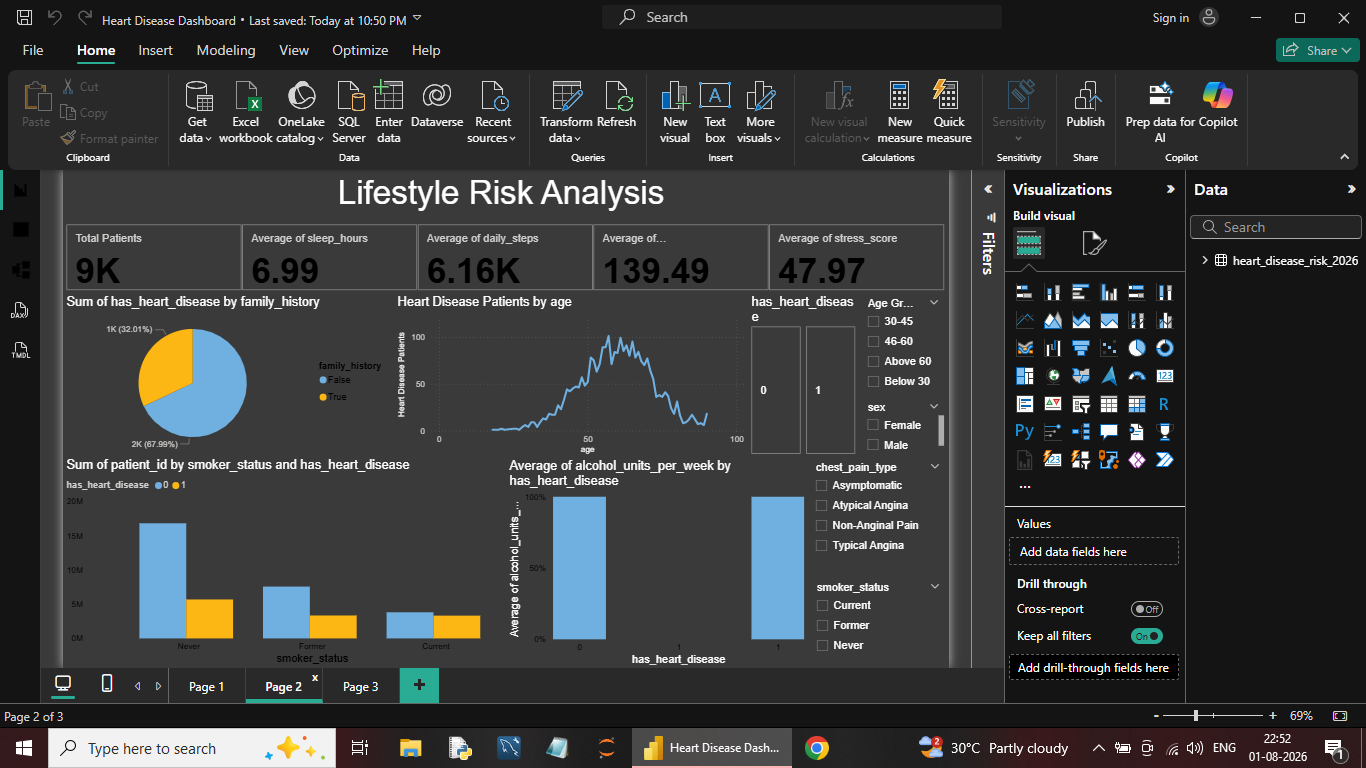

Layout of this report page (visuals, bound fields, positions):
{"tool":"powerbi","page":{"name":"Page 2","canvas":[1280,720],"ordinal":1},"visuals":[{"type":"textbox","box":[0,0,1280,72.9],"z":0},{"type":"clusteredColumnChart","fields":{"Category":["heart_disease_risk_2026.smoker_status"],"Y":["Sum(heart_disease_risk_2026.patient_id)"],"Series":["heart_disease_risk_2026.has_heart_disease"]},"box":[0,415.7,687.3,304.6],"z":1000},{"type":"pieChart","fields":{"Category":["heart_disease_risk_2026.family_history"],"Y":["Sum(heart_disease_risk_2026.has_heart_disease)"]},"box":[0,179.3,479,236.6],"z":2000},{"type":"cardVisual","fields":{"Data":["heart_disease_risk_2026.Total Patients","Avg(heart_disease_risk_2026.sleep_hours)","Avg(heart_disease_risk_2026.daily_steps)","Avg(heart_disease_risk_2026.exercise_minutes_per_week)","Avg(heart_disease_risk_2026.stress_score)"]},"box":[0,73.5,1280,105],"z":3000},{"type":"hundredPercentStackedColumnChart","fields":{"Category":["heart_disease_risk_2026.has_heart_disease"],"Y":["Avg(heart_disease_risk_2026.alcohol_units_per_week)"]},"box":[640.7,415.8,436.4,304.2],"z":4000},{"type":"slicer","fields":{"Values":["heart_disease_risk_2026.Age Group"]},"box":[1150.9,178.6,127.5,151.6],"z":5000},{"type":"slicer","fields":{"Values":["heart_disease_risk_2026.sex"]},"box":[1150.9,330.1,127.5,85.5],"z":6000},{"type":"slicer","fields":{"Values":["heart_disease_risk_2026.smoker_status"]},"box":[1077.1,589.2,202.8,130.8],"z":7000},{"type":"slicer","fields":{"Values":["heart_disease_risk_2026.chest_pain_type"]},"box":[1075.6,415.8,204.2,173.4],"z":8000},{"type":"advancedSlicerVisual","fields":{"Values":["heart_disease_risk_2026.has_heart_disease"]},"box":[990.4,179.3,160.2,236.6],"z":9000},{"type":"lineChart","fields":{"Category":["heart_disease_risk_2026.age"],"Y":["heart_disease_risk_2026.Heart Disease Patients"]},"box":[479,179.3,511.3,236.6],"z":10000}]}

Visuals, with their boxes on the page's 1280x720 design canvas (x1, y1, x2, y2). These are canvas units, not pixel positions in the 1366x768 screenshot, which may show the page scaled, cropped or inside an application window:
textbox: (left=0, top=0, right=1280, bottom=73)
clusteredColumnChart - heart_disease_risk_2026.smoker_status x Sum(heart_disease_risk_2026.patient_id): (left=0, top=416, right=687, bottom=720)
pieChart - heart_disease_risk_2026.family_history x Sum(heart_disease_risk_2026.has_heart_disease): (left=0, top=179, right=479, bottom=416)
cardVisual - heart_disease_risk_2026.Total Patients x Avg(heart_disease_risk_2026.sleep_hours): (left=0, top=74, right=1280, bottom=178)
hundredPercentStackedColumnChart - heart_disease_risk_2026.has_heart_disease x Avg(heart_disease_risk_2026.alcohol_units_per_week): (left=641, top=416, right=1077, bottom=720)
slicer - heart_disease_risk_2026.Age Group: (left=1151, top=179, right=1278, bottom=330)
slicer - heart_disease_risk_2026.sex: (left=1151, top=330, right=1278, bottom=416)
slicer - heart_disease_risk_2026.smoker_status: (left=1077, top=589, right=1280, bottom=720)
slicer - heart_disease_risk_2026.chest_pain_type: (left=1076, top=416, right=1280, bottom=589)
advancedSlicerVisual - heart_disease_risk_2026.has_heart_disease: (left=990, top=179, right=1151, bottom=416)
lineChart - heart_disease_risk_2026.age x heart_disease_risk_2026.Heart Disease Patients: (left=479, top=179, right=990, bottom=416)
